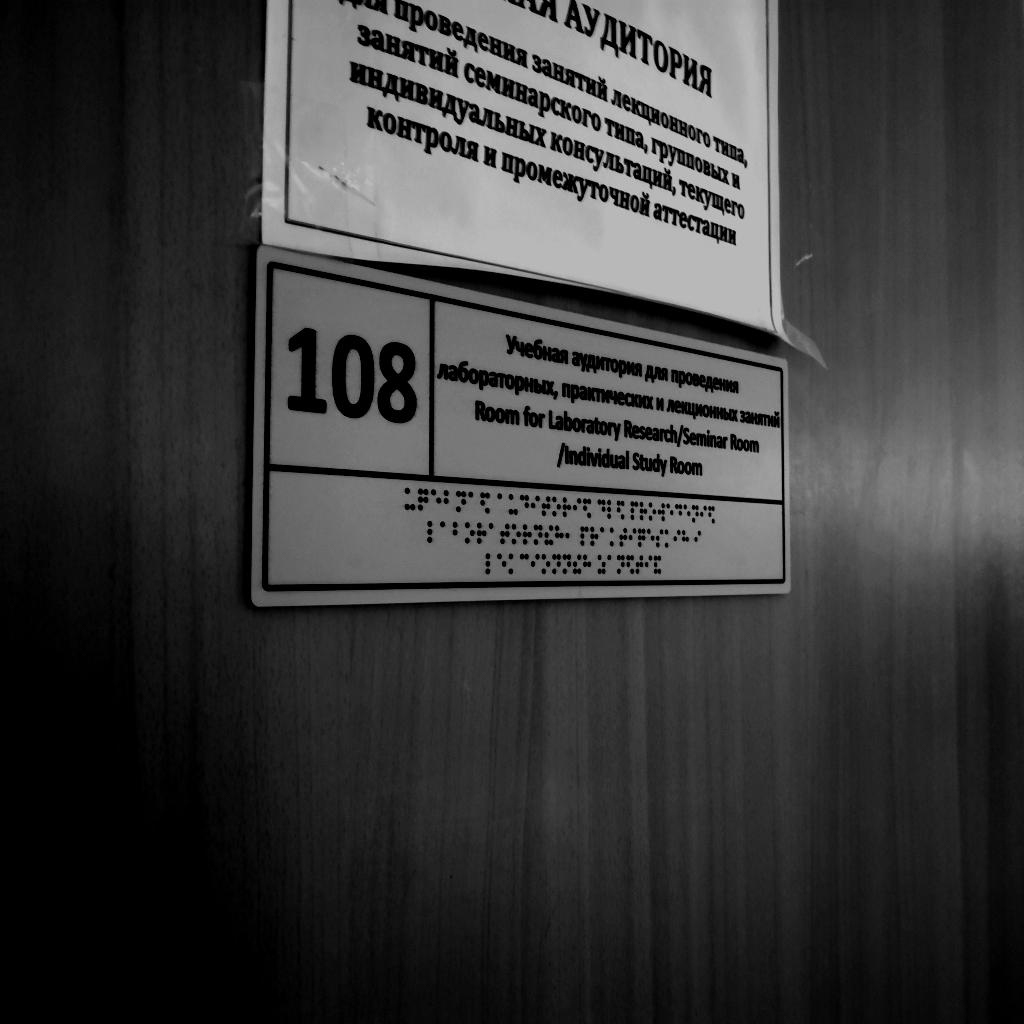_n: (455, 490, 467, 513), (533, 524, 543, 545), (552, 554, 561, 574), (563, 554, 571, 574), (617, 555, 625, 574), (692, 505, 698, 522)
_y: (405, 487, 416, 511), (509, 493, 519, 516)
a: (468, 491, 479, 514), (440, 521, 450, 543), (488, 522, 498, 544), (498, 493, 507, 515), (608, 555, 616, 574), (600, 527, 608, 545)
b: (444, 490, 455, 513), (452, 522, 463, 544)
c: (520, 553, 529, 575)
ch: (417, 488, 429, 512), (638, 528, 646, 548)
d: (520, 493, 530, 516), (597, 499, 606, 519), (675, 503, 682, 521)
e: (431, 489, 442, 512), (496, 553, 507, 575), (647, 528, 655, 547), (666, 503, 674, 521), (684, 504, 691, 521)
i: (530, 494, 540, 517), (531, 554, 540, 575), (628, 528, 637, 547), (573, 497, 581, 517), (645, 555, 653, 574), (694, 530, 702, 548), (700, 505, 707, 523), (674, 530, 681, 548)
iKratkoe: (654, 555, 662, 575)
ii: (544, 525, 553, 546), (573, 554, 582, 574)
k: (508, 553, 518, 575), (609, 526, 619, 547), (665, 529, 673, 548)
l: (427, 520, 439, 543), (485, 553, 496, 575), (608, 499, 616, 519)
o: (464, 522, 475, 544), (511, 523, 521, 545), (541, 553, 550, 574), (552, 497, 560, 517), (649, 502, 656, 521)
p: (580, 526, 589, 546), (630, 501, 638, 521)
r: (476, 521, 487, 544), (522, 523, 532, 545), (562, 497, 572, 518), (590, 526, 599, 546), (640, 501, 648, 521)
s: (657, 529, 664, 548)
t: (500, 522, 510, 544), (542, 495, 550, 517), (636, 555, 644, 574), (620, 527, 627, 547)
v: (658, 503, 665, 521)
x: (555, 525, 564, 545), (583, 554, 591, 574), (682, 530, 689, 548)
ya: (481, 492, 491, 514), (616, 500, 625, 521), (583, 498, 591, 519), (708, 505, 715, 524), (627, 555, 634, 574)
z: (597, 555, 606, 575)
zapyataya: (565, 525, 574, 546)
